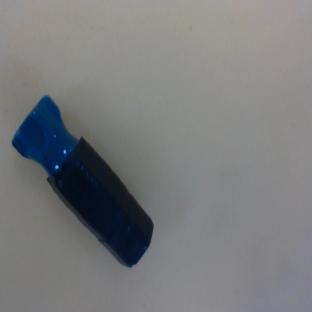part_2_bad: (2, 94, 169, 274)
